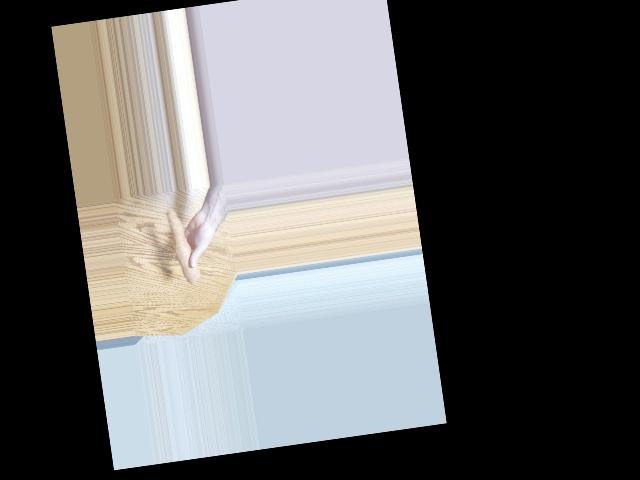sweet_potato: (169, 207, 194, 285)
